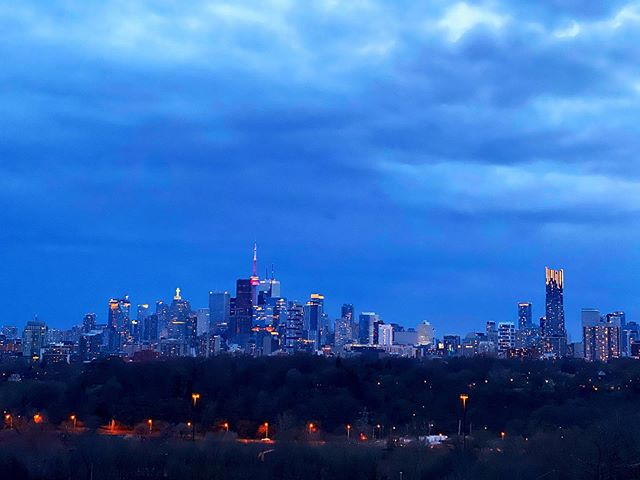building: (226, 272, 257, 358), (257, 273, 288, 359), (579, 309, 621, 360), (547, 264, 569, 349), (12, 319, 57, 360), (105, 294, 135, 351), (165, 295, 195, 352), (203, 290, 233, 347), (302, 286, 329, 344), (329, 298, 359, 347), (516, 303, 543, 353), (358, 306, 393, 344), (480, 316, 515, 354)
sky: (13, 1, 627, 289)
vegetation: (1, 360, 632, 480)
